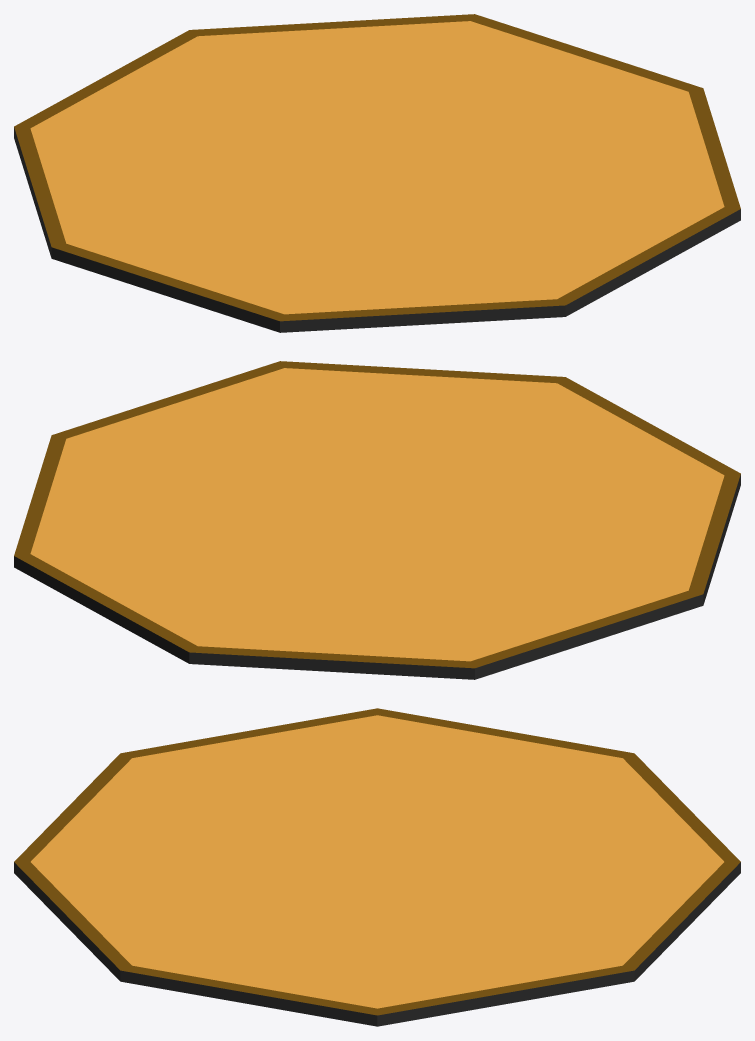
The model's file is sancasi.fbx.
3 views of the same model, one above another, from view 1: azimuth 30°, elevation 25°; view 2: azimuth 150°, elevation 25°; view 3: azimuth 270°, elevation 25° (orthographic). The views are drawn at different scales.
Visible parts, largest first — view 1: sancasi; view 2: sancasi; view 3: sancasi.
Part boxes in pixels (x1,y1,x2,y2): sancasi: (14,14,740,332); sancasi: (14,361,740,679); sancasi: (14,708,740,1026).
Size of the model in its own units: 825 by 13.94 by 825.
